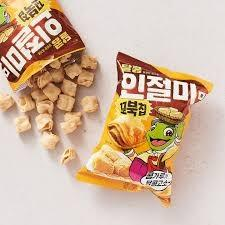snack: (73, 46, 213, 209)
